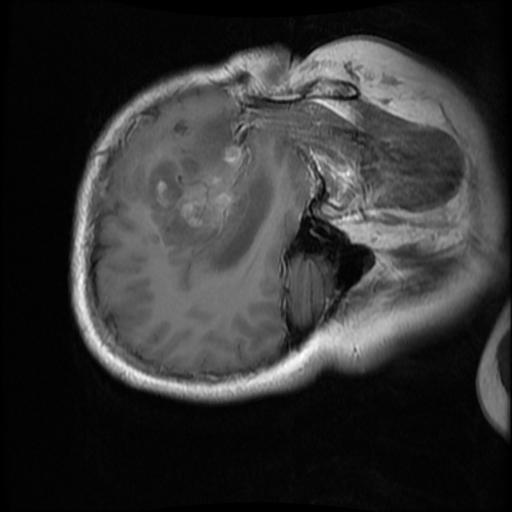glioma: (145, 110, 271, 271)
